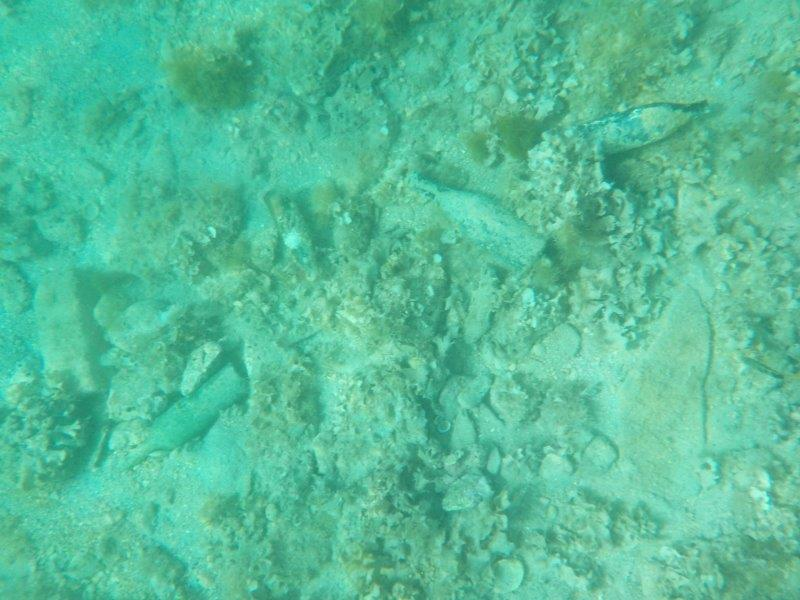bottle: (118, 361, 253, 472), (405, 169, 553, 268), (570, 97, 713, 163), (258, 182, 326, 280)
